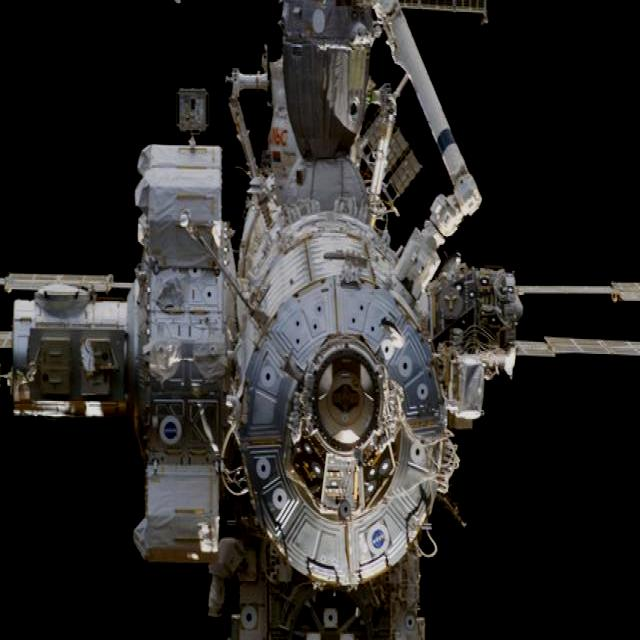satellite: (0, 0, 640, 638)
